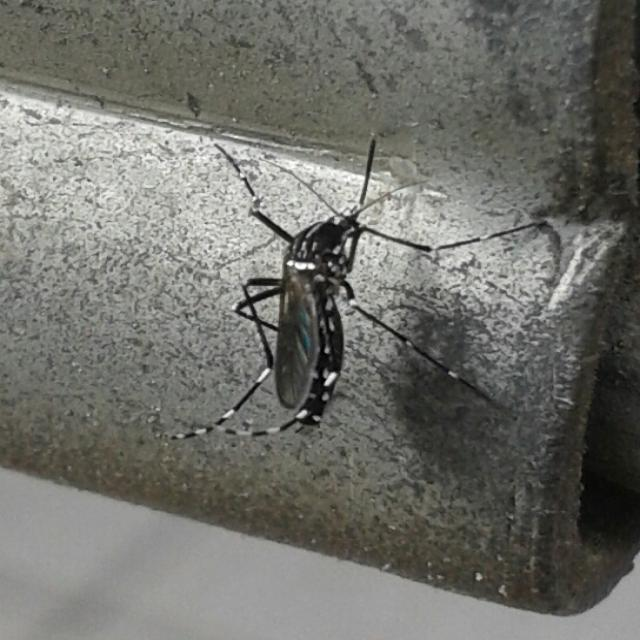albopictus: (127, 94, 555, 463)
